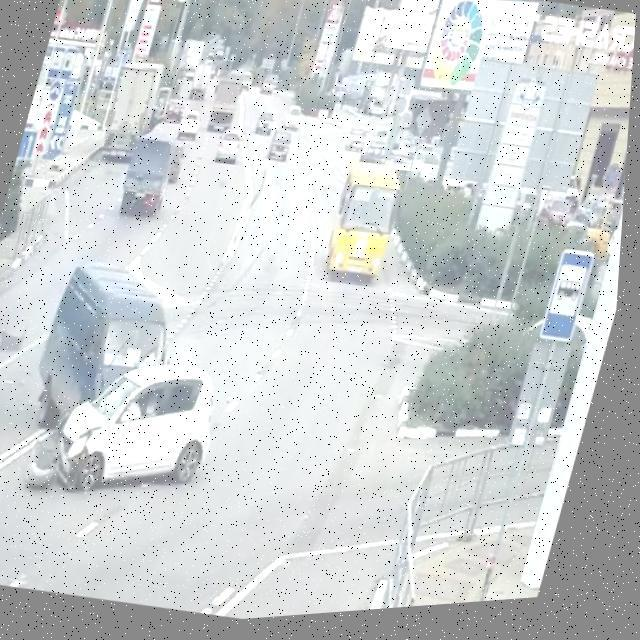Car Accident Detector - v4 Generation1 Exported: (5, 241, 270, 538)
